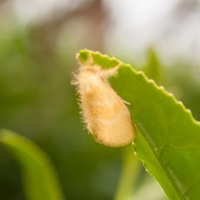insect: (72, 50, 134, 146)
